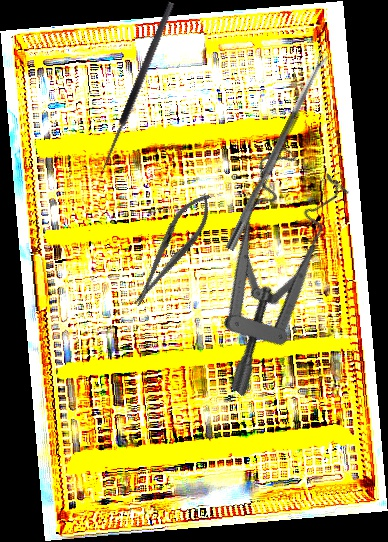Hook Surgical: (98, 1, 184, 178)
Needle Holder: (121, 185, 222, 314)
Speculum: (137, 134, 388, 399)
Surgical Spoon: (225, 52, 330, 252)
